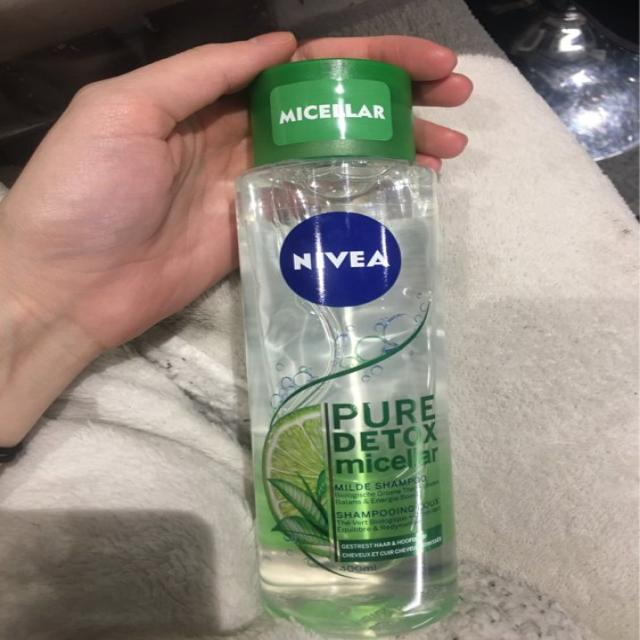plastic: (239, 60, 458, 630)
